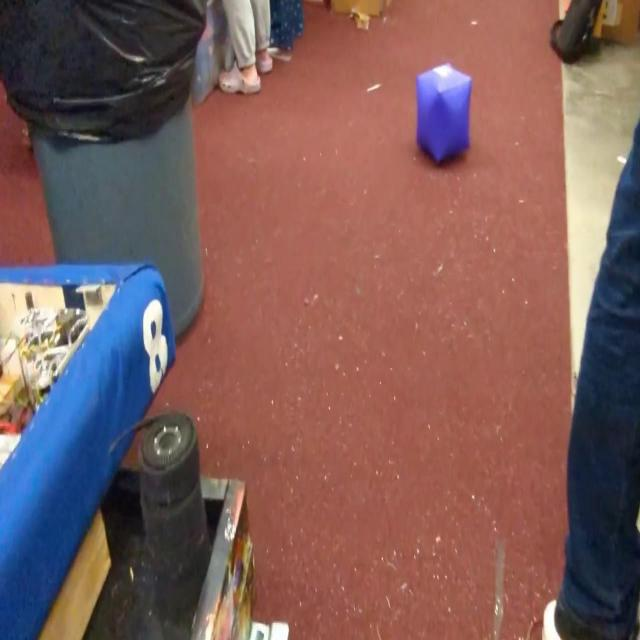frc_cube: (417, 63, 472, 169)
